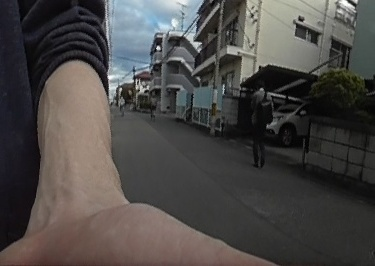person: (249, 85, 267, 163)
